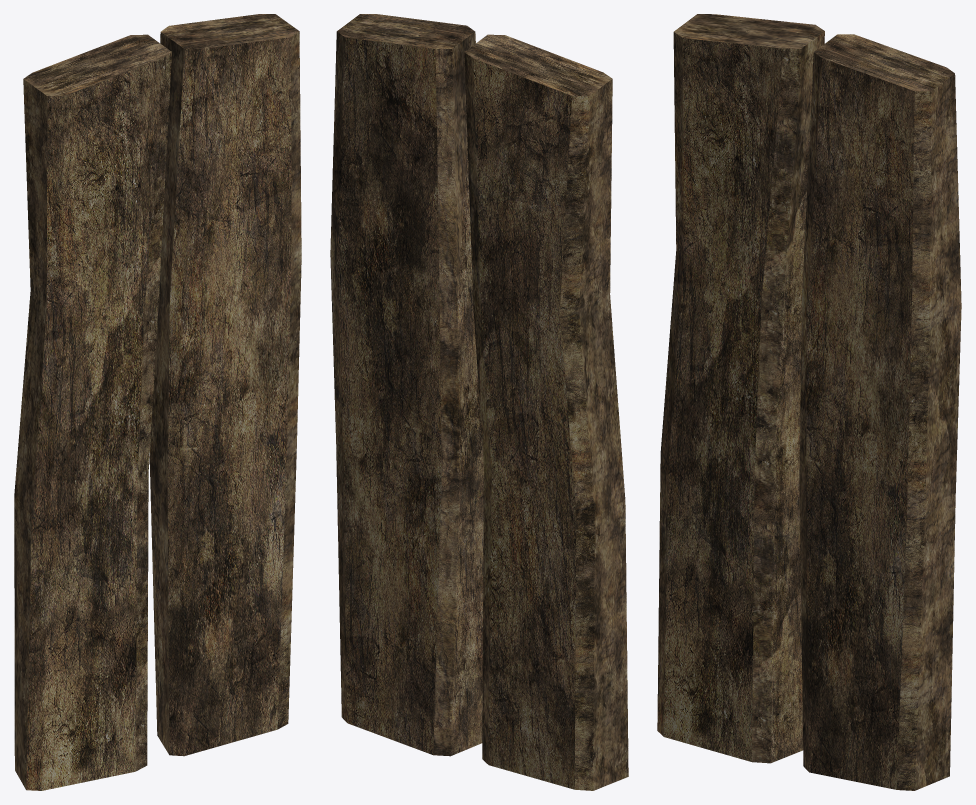
File: Legno003.FBX
3 renders of one model, left to right at view 1: azimuth 30°, elevation 25°; view 2: azimuth 150°, elevation 25°; view 3: azimuth 330°, elevation 25°, orthographic. The views are drawn at different scales.
Visible parts, largest first — view 1: Legno003; view 2: Legno003; view 3: Legno003.
Boxes of the visible parts, box(x1,y1,x2,y2) form: Legno003: box(14, 14, 301, 790); Legno003: box(330, 14, 628, 790); Legno003: box(657, 14, 961, 790).
Size of the model in its own units: 13.3 by 32.19 by 2.9.
